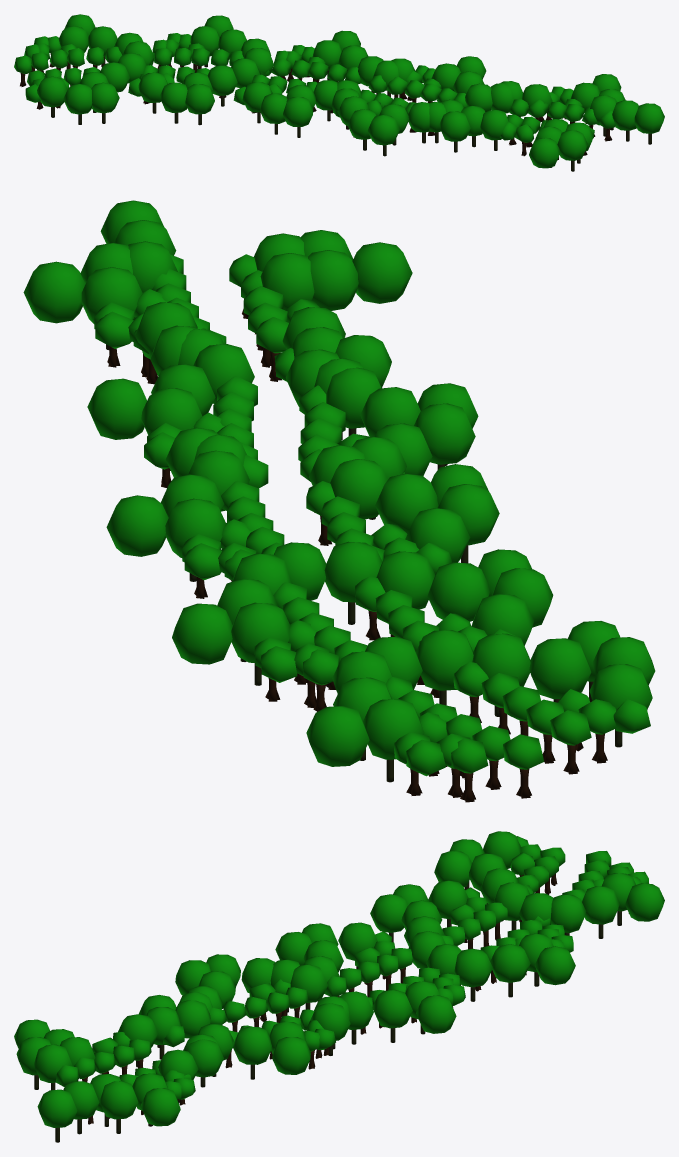
Rendered from alle.obj.
3 views of the same model, one above another, from view 1: azimuth 30°, elevation 25°; view 2: azimuth 150°, elevation 25°; view 3: azimuth 270°, elevation 25° (orthographic). The views are drawn at different scales.
Visible parts, largest first — view 1: big_tree053, big_tree087, big_tree093, big_tree078, big_tree070, big_tree076, big_tree028, big_tree017, big_tree027, big_tree016, big_tree035, big_tree009 (+68 smaller); view 2: big_tree026, big_tree008, big_tree072, big_tree080, big_tree029, big_tree044, big_tree087, big_tree011, big_tree045, big_tree022, big_tree064, big_tree082 (+63 smaller); view 3: big_tree008, big_tree026, big_tree007, big_tree044, big_tree080, big_tree043, big_tree061, big_tree072, big_tree078, big_tree079, big_tree025, big_tree002 (+42 smaller).
Boxes of the visible parts, x1,y1,x2,y2 form: big_tree053: (367, 115, 399, 145); big_tree087: (529, 138, 560, 168); big_tree093: (439, 111, 470, 141); big_tree078: (634, 103, 664, 133); big_tree070: (283, 97, 313, 126); big_tree076: (557, 130, 587, 160); big_tree028: (37, 76, 67, 107); big_tree017: (185, 84, 214, 114); big_tree027: (63, 84, 92, 114); big_tree016: (207, 65, 237, 95); big_tree035: (91, 82, 119, 113); big_tree009: (160, 82, 187, 112); big_tree026: (306, 706, 369, 766); big_tree008: (172, 603, 232, 664); big_tree072: (106, 495, 168, 556); big_tree080: (23, 261, 85, 323); big_tree029: (529, 638, 591, 699); big_tree044: (87, 378, 146, 439); big_tree087: (352, 242, 412, 303); big_tree011: (427, 562, 489, 621); big_tree045: (414, 403, 475, 464); big_tree022: (416, 630, 473, 690); big_tree064: (375, 473, 438, 533); big_tree082: (308, 250, 358, 310); big_tree008: (534, 946, 575, 985); big_tree026: (625, 883, 664, 921); big_tree007: (490, 944, 530, 982); big_tree044: (272, 1037, 310, 1074); big_tree080: (141, 1088, 180, 1126); big_tree043: (233, 1026, 271, 1064); big_tree061: (372, 990, 412, 1028); big_tree072: (416, 995, 456, 1033); big_tree078: (37, 1089, 77, 1127); big_tree079: (99, 1081, 138, 1119); big_tree025: (582, 886, 619, 924); big_tree002: (454, 948, 492, 987).
Size of the model in its own units: 2216 by 189 by 2183.
